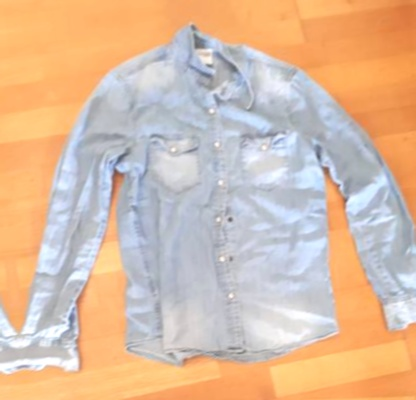Blazer: (0, 6, 416, 395), (0, 57, 26, 400), (0, 0, 392, 11), (416, 0, 416, 343)
